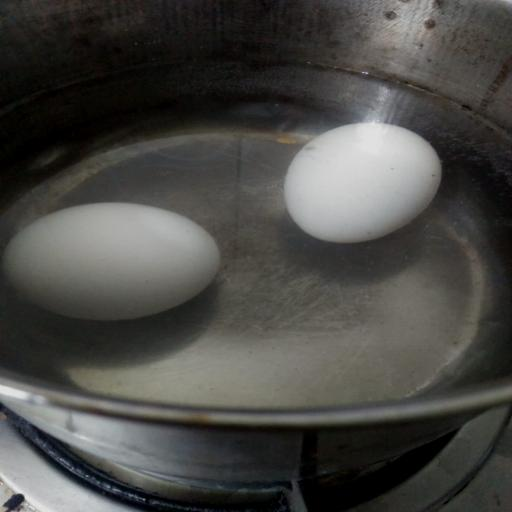telur: (2, 202, 220, 321), (284, 123, 442, 243)
